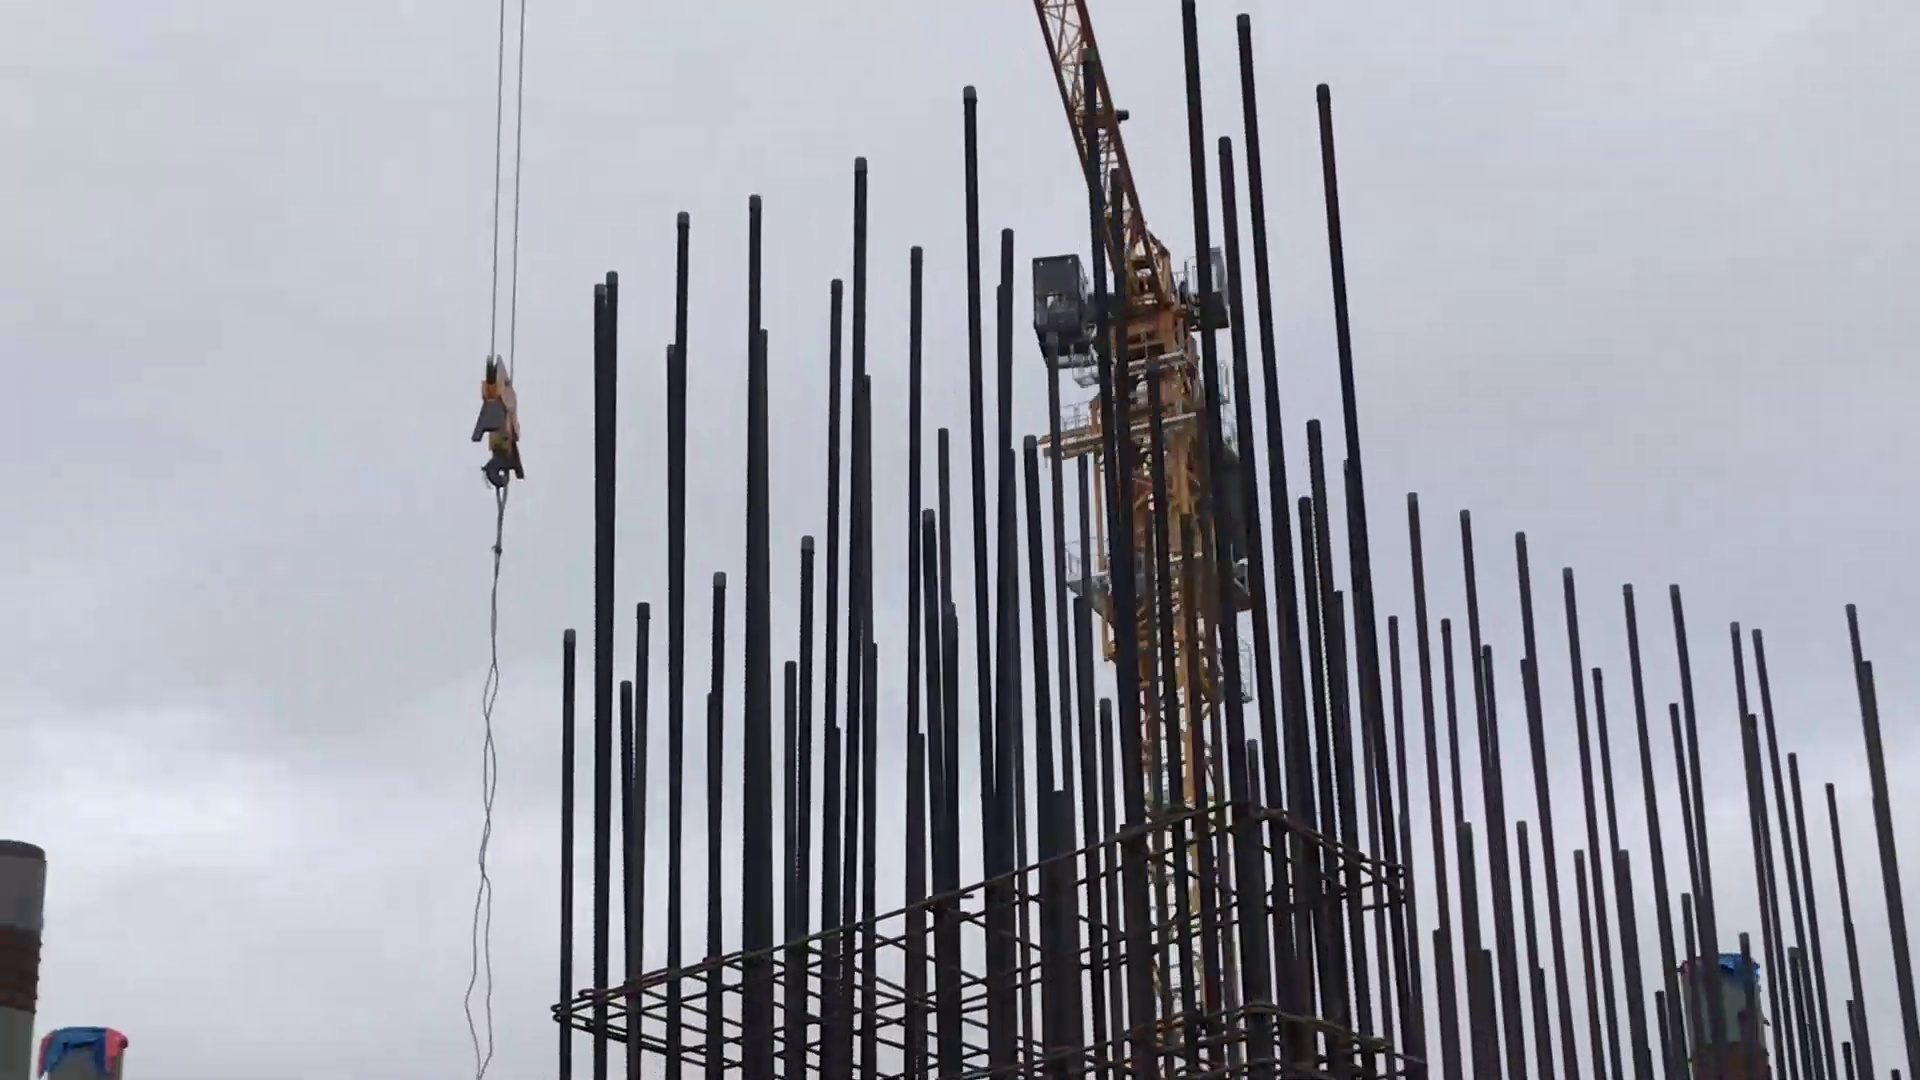hook: (452, 349, 542, 495)
